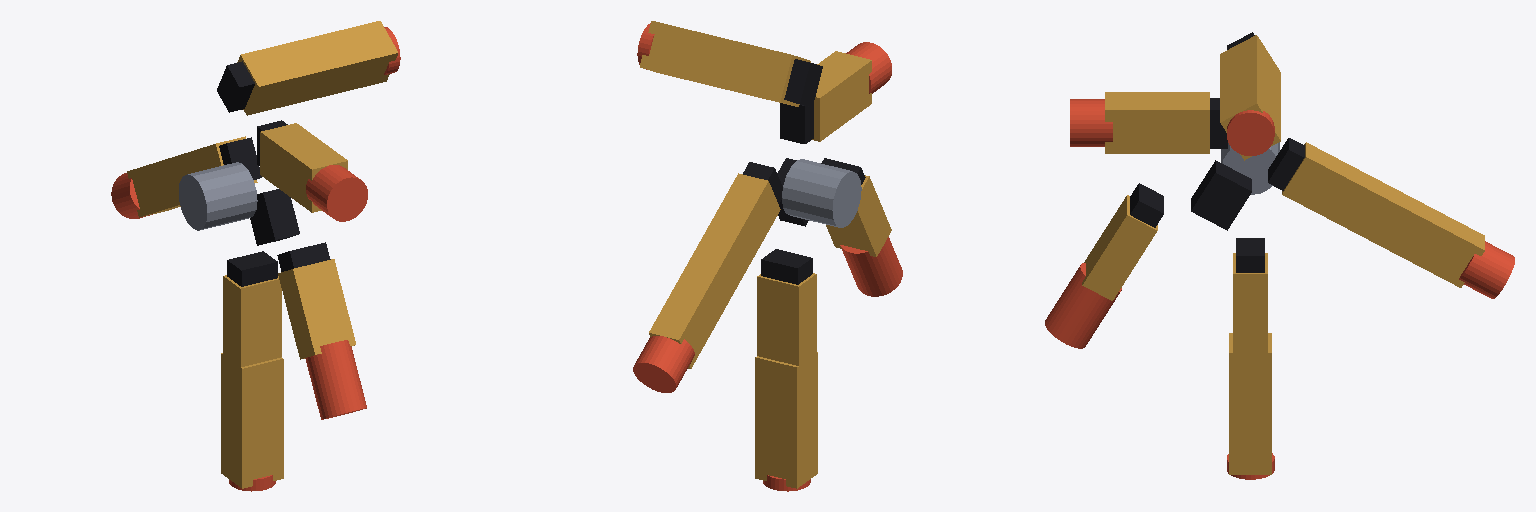
The robot description file, URDF, robot "g0026_c12":
<robot name="g0026_c12">
  <link name="palm">
    <visual name="palm_palm1">
      <origin xyz="0 0 0" rpy="0 0 0" />
      <geometry>
        <mesh filename="palm_palm1.obj" />
      </geometry>
      <material name="palm_palm1_mat">
        <color rgba="0.55 0.57 0.62 1" />
      </material>
    </visual>
    <collision>
      <origin xyz="0 0 0" rpy="0 0 0" />
      <geometry>
        <mesh filename="palm_palm1.obj" />
      </geometry>
    </collision>
    <visual name="palm_mount2">
      <origin xyz="0 0 0" rpy="0 0 0" />
      <geometry>
        <mesh filename="palm_mount2.obj" />
      </geometry>
      <material name="palm_mount2_mat">
        <color rgba="0.55 0.57 0.62 1" />
      </material>
    </visual>
    <collision>
      <origin xyz="0 0 0" rpy="0 0 0" />
      <geometry>
        <mesh filename="palm_mount2.obj" />
      </geometry>
    </collision>
    <visual name="palm_hinge3">
      <origin xyz="0 -0.019910254 -0.0144855716" rpy="1.57079633 -0.523598776 -1.57079633" />
      <geometry>
        <box size="0.029 0.034 0.02" />
      </geometry>
      <material name="palm_hinge3_mat">
        <color rgba="0.15 0.15 0.17 1" />
      </material>
    </visual>
    <collision>
      <origin xyz="0 -0.019910254 -0.0144855716" rpy="1.57079633 -0.523598776 -1.57079633" />
      <geometry>
        <box size="0.029 0.034 0.02" />
      </geometry>
    </collision>
    <visual name="palm_motor4">
      <origin xyz="0 -0.0325 0.04" rpy="-0 -1.57079633 0" />
      <geometry>
        <box size="0.029 0.034 0.02" />
      </geometry>
      <material name="palm_motor4_mat">
        <color rgba="0.15 0.15 0.17 1" />
      </material>
    </visual>
    <collision>
      <origin xyz="0 -0.0325 0.04" rpy="-0 -1.57079633 0" />
      <geometry>
        <box size="0.029 0.034 0.02" />
      </geometry>
    </collision>
    <visual name="palm_motor5">
      <origin xyz="-0.007 2.29621275e-19 0.08" rpy="-1.06057524e-16 1.04719755 1.57079633" />
      <geometry>
        <box size="0.029 0.034 0.02" />
      </geometry>
      <material name="palm_motor5_mat">
        <color rgba="0.15 0.15 0.17 1" />
      </material>
    </visual>
    <collision>
      <origin xyz="-0.007 2.29621275e-19 0.08" rpy="-1.06057524e-16 1.04719755 1.57079633" />
      <geometry>
        <box size="0.029 0.034 0.02" />
      </geometry>
    </collision>
    <visual name="palm_motor6">
      <origin xyz="0 0.0335048095 0.00375" rpy="1.57079633 1.04719755 -1.57079633" />
      <geometry>
        <box size="0.029 0.034 0.02" />
      </geometry>
      <material name="palm_motor6_mat">
        <color rgba="0.15 0.15 0.17 1" />
      </material>
    </visual>
    <collision>
      <origin xyz="0 0.0335048095 0.00375" rpy="1.57079633 1.04719755 -1.57079633" />
      <geometry>
        <box size="0.029 0.034 0.02" />
      </geometry>
    </collision>
    <inertial>
      <origin xyz="7.01471761e-20 -0.00309426386 0.0242843732" rpy="1.57079633 0.965608564 1.57079633" />
      <mass value="0.440237387" />
      <inertia ixx="0.000315521743" ixy="0" ixz="0" iyy="0.000533263342" iyz="0" izz="0.000806522296" />
    </inertial>
  </link>
  <link name="palm0">
    <visual name="palm0_palm1">
      <origin xyz="0 0 0" rpy="0 0 0" />
      <geometry>
        <mesh filename="palm0_palm1.obj" />
      </geometry>
      <material name="palm0_palm1_mat">
        <color rgba="0.55 0.57 0.62 1" />
      </material>
    </visual>
    <collision>
      <origin xyz="0 0 0" rpy="0 0 0" />
      <geometry>
        <mesh filename="palm0_palm1.obj" />
      </geometry>
    </collision>
    <visual name="palm0_motor2">
      <origin xyz="-0.0045 -0.052589746 -0.0125240474" rpy="1.04719755 -3.061617e-17 -5.30287619e-17" />
      <geometry>
        <box size="0.029 0.034 0.02" />
      </geometry>
      <material name="palm0_motor2_mat">
        <color rgba="0.15 0.15 0.17 1" />
      </material>
    </visual>
    <collision>
      <origin xyz="-0.0045 -0.052589746 -0.0125240474" rpy="1.04719755 -3.061617e-17 -5.30287619e-17" />
      <geometry>
        <box size="0.029 0.034 0.02" />
      </geometry>
    </collision>
    <visual name="palm0_motor3">
      <origin xyz="-0.0045 0.023660254 -0.0515192379" rpy="1.57079633 7.49879891e-33 -6.123234e-17" />
      <geometry>
        <box size="0.029 0.034 0.02" />
      </geometry>
      <material name="palm0_motor3_mat">
        <color rgba="0.15 0.15 0.17 1" />
      </material>
    </visual>
    <collision>
      <origin xyz="-0.0045 0.023660254 -0.0515192379" rpy="1.57079633 7.49879891e-33 -6.123234e-17" />
      <geometry>
        <box size="0.029 0.034 0.02" />
      </geometry>
    </collision>
    <inertial>
      <origin xyz="0 -0.0112670786 -0.0275593664" rpy="-1.57079633 0.513277006 1.57079633" />
      <mass value="0.251409314" />
      <inertia ixx="6.60553656e-05" ixy="0" ixz="0" iyy="0.000298623958" iyz="0" izz="0.000340544029" />
    </inertial>
  </link>
  <link name="f0_link0">
    <visual name="f0_link0_link1">
      <origin xyz="0.01875 0 -1.38777878e-17" rpy="0 4.06369831e-17 0" />
      <geometry>
        <box size="0.0615 0.033 0.024" />
      </geometry>
      <material name="f0_link0_link1_mat">
        <color rgba="0.80 0.62 0.30 1" />
      </material>
    </visual>
    <collision>
      <origin xyz="0.01875 0 -1.38777878e-17" rpy="0 4.06369831e-17 0" />
      <geometry>
        <box size="0.0615 0.033 0.024" />
      </geometry>
    </collision>
    <inertial>
      <origin xyz="0.01875 0 0" rpy="0 0 0" />
      <mass value="0.085239" />
      <inertia ixx="1.18269113e-05" ixy="0" ixz="0" iyy="3.09577393e-05" iyz="0" izz="3.46017066e-05" />
    </inertial>
  </link>
  <link name="f0_link1">
    <visual name="f0_link1_link1">
      <origin xyz="0.029 0 -6.9388939e-18" rpy="-1.57079633 -0 -1.57079633" />
      <geometry>
        <cylinder radius="0.0165" length="0.049" />
      </geometry>
      <material name="f0_link1_link1_mat">
        <color rgba="0.85 0.35 0.25 1" />
      </material>
    </visual>
    <collision>
      <origin xyz="0.029 0 -6.9388939e-18" rpy="-1.57079633 -0 -1.57079633" />
      <geometry>
        <cylinder radius="0.0165" length="0.049" />
      </geometry>
    </collision>
    <inertial>
      <origin xyz="0.029 0 0" rpy="0 0 0" />
      <mass value="0.106270851" />
      <inertia ixx="1.35696277e-05" ixy="0" ixz="0" iyy="5.30015704e-05" iyz="0" izz="5.30015704e-05" />
    </inertial>
  </link>
  <link name="f1_link0">
    <visual name="f1_link0_link1">
      <origin xyz="0.02375 0 0" rpy="0 -0 0" />
      <geometry>
        <box size="0.0715 0.029 0.033" />
      </geometry>
      <material name="f1_link0_link1_mat">
        <color rgba="0.80 0.62 0.30 1" />
      </material>
    </visual>
    <collision>
      <origin xyz="0.02375 0 0" rpy="0 -0 0" />
      <geometry>
        <box size="0.0715 0.029 0.033" />
      </geometry>
    </collision>
    <inertial>
      <origin xyz="0.02375 0 0" rpy="0 0 0" />
      <mass value="0.119744625" />
      <inertia ixx="1.92589272e-05" ixy="0" ixz="0" iyy="6.18805296e-05" iyz="0" izz="5.94058074e-05" />
    </inertial>
  </link>
  <link name="f1_link1">
    <visual name="f1_link1_link1">
      <origin xyz="0.019 0 3.46944695e-18" rpy="-1.57079633 -0 -1.57079633" />
      <geometry>
        <cylinder radius="0.0165" length="0.029" />
      </geometry>
      <material name="f1_link1_link1_mat">
        <color rgba="0.85 0.35 0.25 1" />
      </material>
    </visual>
    <collision>
      <origin xyz="0.019 0 3.46944695e-18" rpy="-1.57079633 -0 -1.57079633" />
      <geometry>
        <cylinder radius="0.0165" length="0.029" />
      </geometry>
    </collision>
    <inertial>
      <origin xyz="0.019 0 0" rpy="0 0 0" />
      <mass value="0.0763354" />
      <inertia ixx="9.49466441e-06" ixy="0" ixz="0" iyy="2.24143997e-05" iyz="0" izz="2.24143997e-05" />
    </inertial>
  </link>
  <link name="f2_link0">
    <visual name="f2_link0_link1">
      <origin xyz="0.02875 0 0" rpy="0 -0 0" />
      <geometry>
        <box size="0.0815 0.033 0.024" />
      </geometry>
      <material name="f2_link0_link1_mat">
        <color rgba="0.80 0.62 0.30 1" />
      </material>
    </visual>
    <collision>
      <origin xyz="0.02875 0 0" rpy="0 -0 0" />
      <geometry>
        <box size="0.0815 0.033 0.024" />
      </geometry>
    </collision>
    <inertial>
      <origin xyz="0.02875 0 0" rpy="0 0 0" />
      <mass value="0.112959" />
      <inertia ixx="1.56730613e-05" ixy="0" ixz="0" iyy="6.79471918e-05" iyz="0" izz="7.27761891e-05" />
    </inertial>
  </link>
  <link name="f2_link1">
    <visual name="f2_link1_link1">
      <origin xyz="0.03375 0 0" rpy="0 -0 0" />
      <geometry>
        <box size="0.0915 0.033 0.029" />
      </geometry>
      <material name="f2_link1_link1_mat">
        <color rgba="0.80 0.62 0.30 1" />
      </material>
    </visual>
    <collision>
      <origin xyz="0.03375 0 0" rpy="0 -0 0" />
      <geometry>
        <box size="0.0915 0.033 0.029" />
      </geometry>
    </collision>
    <inertial>
      <origin xyz="0.03375 0 0" rpy="0 0 0" />
      <mass value="0.153239625" />
      <inertia ixx="2.46460397e-05" ixy="0" ixz="0" iyy="0.000117652915" iyz="0" izz="0.000120819867" />
    </inertial>
  </link>
  <link name="f2_link2">
    <visual name="f2_link2_link1">
      <origin xyz="0.009 0 0" rpy="-1.57079633 -0 -1.57079633" />
      <geometry>
        <cylinder radius="0.0165" length="0.009" />
      </geometry>
      <material name="f2_link2_link1_mat">
        <color rgba="0.85 0.35 0.25 1" />
      </material>
    </visual>
    <collision>
      <origin xyz="0.009 0 0" rpy="-1.57079633 -0 -1.57079633" />
      <geometry>
        <cylinder radius="0.0165" length="0.009" />
      </geometry>
    </collision>
    <inertial>
      <origin xyz="0.009 0 0" rpy="0 0 0" />
      <mass value="0.046399949" />
      <inertia ixx="5.41970115e-06" ixy="0" ixz="0" iyy="7.09430898e-06" iyz="0" izz="7.09430898e-06" />
    </inertial>
  </link>
  <link name="f3_link0">
    <visual name="f3_link0_link1">
      <origin xyz="0.04375 1.38777878e-17 0" rpy="3.98552134e-18 1.1024023e-33 1.87768018e-33" />
      <geometry>
        <box size="0.1115 0.033 0.029" />
      </geometry>
      <material name="f3_link0_link1_mat">
        <color rgba="0.80 0.62 0.30 1" />
      </material>
    </visual>
    <collision>
      <origin xyz="0.04375 1.38777878e-17 0" rpy="3.98552134e-18 1.1024023e-33 1.87768018e-33" />
      <geometry>
        <box size="0.1115 0.033 0.029" />
      </geometry>
    </collision>
    <inertial>
      <origin xyz="0.04375 0 0" rpy="0 0 0" />
      <mass value="0.186734625" />
      <inertia ixx="3.00331522e-05" ixy="0" ixz="0" iyy="0.000206547947" iyz="0" izz="0.000210407129" />
    </inertial>
  </link>
  <link name="f3_link1">
    <visual name="f3_link1_link1">
      <origin xyz="0.009 1.38777878e-17 -6.9388939e-18" rpy="-1.57079633 -0 -1.57079633" />
      <geometry>
        <cylinder radius="0.0165" length="0.009" />
      </geometry>
      <material name="f3_link1_link1_mat">
        <color rgba="0.85 0.35 0.25 1" />
      </material>
    </visual>
    <collision>
      <origin xyz="0.009 1.38777878e-17 -6.9388939e-18" rpy="-1.57079633 -0 -1.57079633" />
      <geometry>
        <cylinder radius="0.0165" length="0.009" />
      </geometry>
    </collision>
    <inertial>
      <origin xyz="0.009 0 0" rpy="0 0 0" />
      <mass value="0.046399949" />
      <inertia ixx="5.41970115e-06" ixy="0" ixz="0" iyy="7.09430898e-06" iyz="0" izz="7.09430898e-06" />
    </inertial>
  </link>
  <link name="f4_link0">
    <visual name="f4_link0_link1">
      <origin xyz="0.02375 0 -3.46944695e-18" rpy="0 2.57628149e-17 0" />
      <geometry>
        <box size="0.0715 0.024 0.033" />
      </geometry>
      <material name="f4_link0_link1_mat">
        <color rgba="0.80 0.62 0.30 1" />
      </material>
    </visual>
    <collision>
      <origin xyz="0.02375 0 -3.46944695e-18" rpy="0 2.57628149e-17 0" />
      <geometry>
        <box size="0.0715 0.024 0.033" />
      </geometry>
    </collision>
    <inertial>
      <origin xyz="0.02375 0 0" rpy="0 0 0" />
      <mass value="0.099099" />
      <inertia ixx="1.37499863e-05" ixy="0" ixz="0" iyy="5.12114728e-05" iyz="0" izz="4.69749906e-05" />
    </inertial>
  </link>
  <link name="f4_link1">
    <visual name="f4_link1_link1">
      <origin xyz="0.03375 0 6.9388939e-18" rpy="0 2.57628149e-17 0" />
      <geometry>
        <box size="0.0915 0.024 0.033" />
      </geometry>
      <material name="f4_link1_link1_mat">
        <color rgba="0.80 0.62 0.30 1" />
      </material>
    </visual>
    <collision>
      <origin xyz="0.03375 0 6.9388939e-18" rpy="0 2.57628149e-17 0" />
      <geometry>
        <box size="0.0915 0.024 0.033" />
      </geometry>
    </collision>
    <inertial>
      <origin xyz="0.03375 0 0" rpy="0 0 0" />
      <mass value="0.126819" />
      <inertia ixx="1.75961363e-05" ixy="0" ixz="0" iyy="9.99888553e-05" iyz="0" izz="9.45673431e-05" />
    </inertial>
  </link>
  <link name="f4_link2">
    <visual name="f4_link2_link1">
      <origin xyz="0.019 0 5.20417043e-18" rpy="-1.57079633 -0 -1.57079633" />
      <geometry>
        <cylinder radius="0.0165" length="0.029" />
      </geometry>
      <material name="f4_link2_link1_mat">
        <color rgba="0.85 0.35 0.25 1" />
      </material>
    </visual>
    <collision>
      <origin xyz="0.019 0 5.20417043e-18" rpy="-1.57079633 -0 -1.57079633" />
      <geometry>
        <cylinder radius="0.0165" length="0.029" />
      </geometry>
    </collision>
    <inertial>
      <origin xyz="0.019 0 0" rpy="0 0 0" />
      <mass value="0.0763354" />
      <inertia ixx="9.49466441e-06" ixy="0" ixz="0" iyy="2.24143997e-05" iyz="0" izz="2.24143997e-05" />
    </inertial>
  </link>
  <joint name="palm0_joint" type="revolute">
    <parent link="palm" />
    <child link="palm0" />
    <origin xyz="0 -0.023660254 -0.0209807621" rpy="0 0 0" />
    <axis xyz="0 -0.866025404 0.5" />
    <limit effort="0.5" lower="-0.523598776" upper="0.523598776" velocity="5" />
    <dynamics damping="0.0775033" friction="0" />
  </joint>
  <joint name="f0_j0" type="revolute">
    <parent link="palm0" />
    <child link="f0_link0" />
    <origin xyz="-0.0045 -0.056339746 -0.0190192379" rpy="0 1.04719755 -1.57079633" />
    <axis xyz="0 1 6.123234e-17" />
    <limit effort="0.5" lower="-0.523598776" upper="0.523598776" velocity="5" />
    <dynamics damping="0.0775033" friction="0" />
  </joint>
  <joint name="f0_j1" type="revolute">
    <parent link="f0_link0" />
    <child link="f0_link1" />
    <origin xyz="0.04 0 0" rpy="0 0 0" />
    <axis xyz="0 1 6.123234e-17" />
    <limit effort="0.5" lower="-0.523598776" upper="0.523598776" velocity="5" />
    <dynamics damping="0.0775033" friction="0" />
  </joint>
  <joint name="f1_j0" type="revolute">
    <parent link="palm" />
    <child link="f1_link0" />
    <origin xyz="0 -0.04 0.04" rpy="0 1.8369702e-16 -1.57079633" />
    <axis xyz="0 0 1" />
    <limit effort="0.5" lower="-0.523598776" upper="1.57079633" velocity="5" />
    <dynamics damping="0.0775033" friction="0" />
  </joint>
  <joint name="f1_j1" type="revolute">
    <parent link="f1_link0" />
    <child link="f1_link1" />
    <origin xyz="0.05 0 0" rpy="0 0 0" />
    <axis xyz="-0 -1 -6.123234e-17" />
    <limit effort="0.5" lower="-0.523598776" upper="0.523598776" velocity="5" />
    <dynamics damping="0.0775033" friction="0" />
  </joint>
  <joint name="f2_j0" type="revolute">
    <parent link="palm0" />
    <child link="f2_link0" />
    <origin xyz="-0.0045 0.023660254 -0.0590192379" rpy="1.57079633 1.57079633 0" />
    <axis xyz="0 1 6.123234e-17" />
    <limit effort="0.5" lower="-0.523598776" upper="0.523598776" velocity="5" />
    <dynamics damping="0.0775033" friction="0" />
  </joint>
  <joint name="f2_j1" type="revolute">
    <parent link="f2_link0" />
    <child link="f2_link1" />
    <origin xyz="0.06 0 0" rpy="0 0 0" />
    <axis xyz="0 1 6.123234e-17" />
    <limit effort="0.5" lower="-0.523598776" upper="0.523598776" velocity="5" />
    <dynamics damping="0.0775033" friction="0" />
  </joint>
  <joint name="f2_j2" type="revolute">
    <parent link="f2_link1" />
    <child link="f2_link2" />
    <origin xyz="0.07 0 0" rpy="0 0 0" />
    <axis xyz="0 0 1" />
    <limit effort="0.5" lower="-0.523598776" upper="1.57079633" velocity="5" />
    <dynamics damping="0.0775033" friction="0" />
  </joint>
  <joint name="f3_j0" type="revolute">
    <parent link="palm" />
    <child link="f3_link0" />
    <origin xyz="0.0005 0 0.08" rpy="-1.04719755 -5.30287619e-17 -3.061617e-17" />
    <axis xyz="-0 -1 -6.123234e-17" />
    <limit effort="0.5" lower="-0.523598776" upper="0.523598776" velocity="5" />
    <dynamics damping="0.0775033" friction="0" />
  </joint>
  <joint name="f3_j1" type="revolute">
    <parent link="f3_link0" />
    <child link="f3_link1" />
    <origin xyz="0.09 0 0" rpy="0 0 0" />
    <axis xyz="0 0 1" />
    <limit effort="0.5" lower="-0.523598776" upper="1.57079633" velocity="5" />
    <dynamics damping="0.0775033" friction="0" />
  </joint>
  <joint name="f4_j0" type="revolute">
    <parent link="palm" />
    <child link="f4_link0" />
    <origin xyz="0 0.04 0" rpy="3.14159265 0.523598776 1.57079633" />
    <axis xyz="0 0 1" />
    <limit effort="0.5" lower="-0.523598776" upper="1.57079633" velocity="5" />
    <dynamics damping="0.0775033" friction="0" />
  </joint>
  <joint name="f4_j1" type="revolute">
    <parent link="f4_link0" />
    <child link="f4_link1" />
    <origin xyz="0.05 0 0" rpy="0 0 0" />
    <axis xyz="0 0 1" />
    <limit effort="0.5" lower="-0.523598776" upper="1.57079633" velocity="5" />
    <dynamics damping="0.0775033" friction="0" />
  </joint>
  <joint name="f4_j2" type="revolute">
    <parent link="f4_link1" />
    <child link="f4_link2" />
    <origin xyz="0.07 0 0" rpy="0 0 0" />
    <axis xyz="0 0 1" />
    <limit effort="0.5" lower="-0.523598776" upper="1.57079633" velocity="5" />
    <dynamics damping="0.0775033" friction="0" />
  </joint>
</robot>

--- What the picture shows (computed from the rendered views, not written in the file) ---
Views: 3 orthographic renders of the robot side by side, from view 1: azimuth 30°, elevation 25°; view 2: azimuth 150°, elevation 25°; view 3: azimuth 270°, elevation 25°.
Model g0026_c12 with 14 links and 13 joints (13 revolute), rooted at palm, posed every joint at zero.
Links seen in each view (by area): view 1: f3_link0, palm, f2_link1, f0_link0, f2_link0, f1_link0, f0_link1, f1_link1, f4_link1, palm0, f4_link2, f4_link0; view 2: palm, f2_link1, f3_link0, f4_link1, f2_link0, f4_link0, f1_link0, f4_link2, f0_link0, f0_link1, palm0, f1_link1; view 3: f4_link1, f1_link0, palm, f2_link1, f3_link0, f4_link0, f2_link0, f0_link0, f0_link1, palm0, f4_link2, f1_link1 (+1 smaller).
Link boxes in pixels (x1,y1,x2,y2): f3_link0: (237,21,397,115); palm: (179,61,299,245); f2_link1: (221,353,283,488); f0_link0: (278,259,355,359); f2_link0: (223,275,281,386); f1_link0: (260,123,347,212); f0_link1: (305,340,366,419); f1_link1: (306,165,367,221); f4_link1: (127,154,189,217); palm0: (227,242,330,286); f4_link2: (111,173,152,218); f4_link0: (184,136,257,182); palm: (743,59,861,227); f2_link1: (755,352,817,488); f3_link0: (640,21,810,106); f4_link1: (649,231,748,368); f2_link0: (757,273,816,393); f4_link0: (693,173,780,287); f1_link0: (812,51,871,141); f4_link2: (633,336,694,392); f0_link0: (826,175,891,256); f0_link1: (840,237,902,296); palm0: (761,158,865,284); f1_link1: (846,42,891,93); f4_link1: (1345,175,1484,287); f1_link0: (1105,92,1209,153); palm: (1191,32,1304,230); f2_link1: (1229,333,1271,474); f3_link0: (1220,35,1280,160); f4_link0: (1282,142,1396,240); f2_link0: (1233,253,1267,381); f0_link0: (1082,195,1157,300); f0_link1: (1045,263,1121,348); palm0: (1130,183,1264,272); f4_link2: (1459,241,1514,298); f1_link1: (1070,99,1112,146).
Size in the robot's own frame: 0.156 by 0.3222 by 0.325 metres.
1 mesh visuals loaded from 3 distinct referenced files (1 OBJ); not drawn: 2 (reference not matched to a file when rendering).
